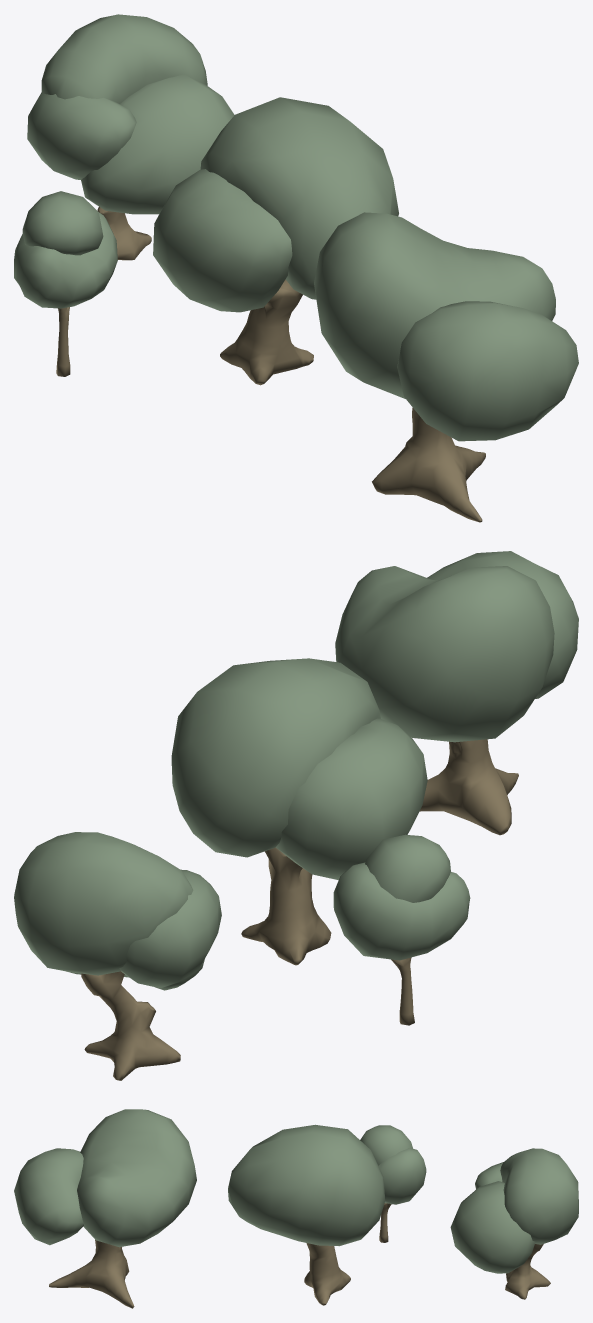
The picture shows the model from 3 angles, top to bottom: view 1: azimuth 30°, elevation 25°; view 2: azimuth 150°, elevation 25°; view 3: azimuth 270°, elevation 25°; orthographic projection. The views are drawn at different scales.
Visible parts, largest first — view 1: treeleaves17, polySurface4, treeleaves18, polySurface5, polySurface7, polySurface8, polySurface6, Tree2_lo3, polySurface9, Tree3_lo3, polySurface10, Tree1_lo3 (+1 smaller); view 2: treeleaves17, polySurface4, polySurface8, polySurface5, polySurface9, polySurface6, Tree2_lo3, Tree3_lo3, Tree1_lo3, treeleaves18, polySurface10, Tree4_lo4; view 3: polySurface4, treeleaves17, polySurface8, treeleaves18, polySurface7, Tree2_lo3, polySurface9, Tree3_lo3, polySurface10, Tree1_lo3, polySurface6, Tree4_lo4.
Part boxes in pixels (x1=…): treeleaves17: x1=314, y1=212, x2=555, y2=398; polySurface4: x1=200, y1=97, x2=398, y2=299; treeleaves18: x1=397, y1=301, x2=578, y2=441; polySurface5: x1=153, y1=169, x2=292, y2=312; polySurface7: x1=81, y1=74, x2=234, y2=214; polySurface8: x1=41, y1=14, x2=207, y2=103; polySurface6: x1=27, y1=92, x2=136, y2=179; Tree2_lo3: x1=372, y1=407, x2=485, y2=522; polySurface9: x1=14, y1=212, x2=117, y2=308; Tree3_lo3: x1=220, y1=279, x2=313, y2=385; polySurface10: x1=22, y1=191, x2=103, y2=255; Tree1_lo3: x1=97, y1=207, x2=151, y2=260; treeleaves17: x1=335, y1=566, x2=554, y2=742; polySurface4: x1=171, y1=658, x2=380, y2=857; polySurface8: x1=14, y1=832, x2=193, y2=975; polySurface5: x1=275, y1=718, x2=427, y2=879; polySurface9: x1=333, y1=862, x2=470, y2=960; polySurface6: x1=119, y1=869, x2=221, y2=988; Tree2_lo3: x1=419, y1=739, x2=518, y2=835; Tree3_lo3: x1=241, y1=847, x2=331, y2=965; Tree1_lo3: x1=81, y1=971, x2=180, y2=1080; treeleaves18: x1=427, y1=551, x2=578, y2=698; polySurface10: x1=365, y1=834, x2=450, y2=902; Tree4_lo4: x1=391, y1=957, x2=414, y2=1025; polySurface4: x1=228, y1=1124, x2=385, y2=1246; treeleaves17: x1=77, y1=1109, x2=196, y2=1247; polySurface8: x1=500, y1=1148, x2=578, y2=1244; treeleaves18: x1=14, y1=1148, x2=83, y2=1245; polySurface7: x1=450, y1=1181, x2=535, y2=1273; Tree2_lo3: x1=49, y1=1240, x2=134, y2=1308; polySurface9: x1=378, y1=1148, x2=426, y2=1204; Tree3_lo3: x1=304, y1=1243, x2=350, y2=1305; polySurface10: x1=360, y1=1125, x2=412, y2=1165; Tree1_lo3: x1=505, y1=1244, x2=550, y2=1299; polySurface6: x1=475, y1=1162, x2=503, y2=1189; Tree4_lo4: x1=379, y1=1203, x2=391, y2=1242.
Bounding box in the file's own units: 10.94 × 8.69 × 26.25.
